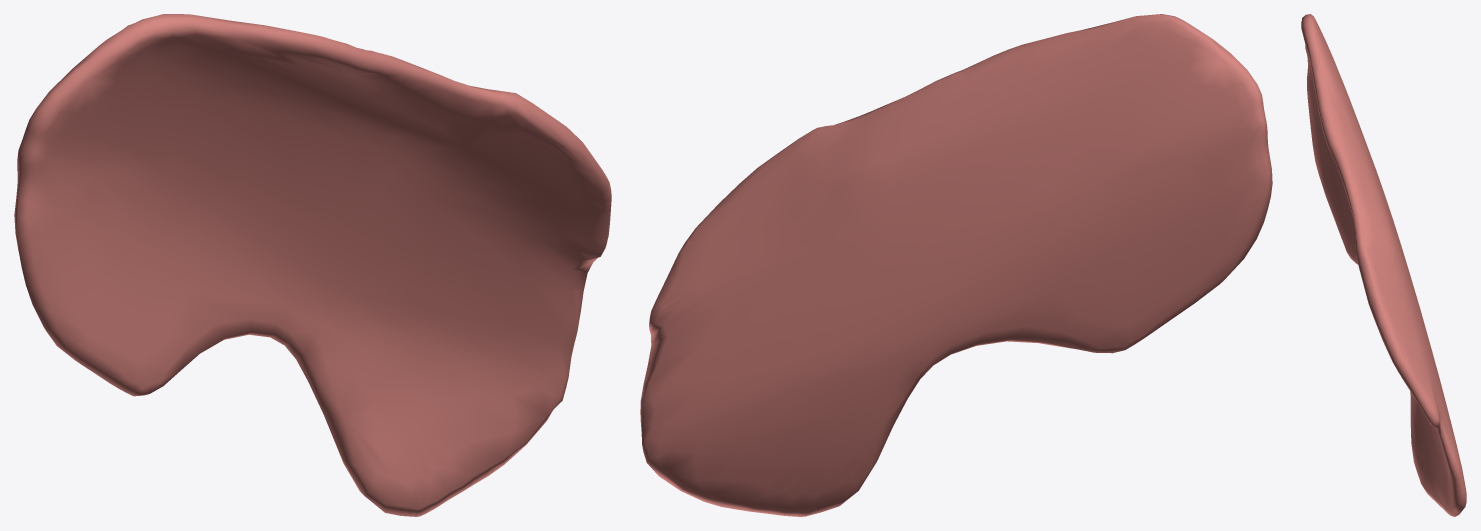
The picture shows the model from 3 angles, left to right: view 1: azimuth 30°, elevation 25°; view 2: azimuth 150°, elevation 25°; view 3: azimuth 270°, elevation 25°; orthographic projection. The views are drawn at different scales.
Visible parts, largest first — view 1: ZA_1ff24734d7805be4; view 2: ZA_1ff24734d7805be4; view 3: ZA_1ff24734d7805be4.
Part boxes in pixels (<box>): ZA_1ff24734d7805be4: <box>14,14,611,516</box>; ZA_1ff24734d7805be4: <box>640,14,1272,516</box>; ZA_1ff24734d7805be4: <box>1301,14,1466,516</box>.
Bounding box in the file's own units: 0.016 × 0.0146 × 0.00589.
